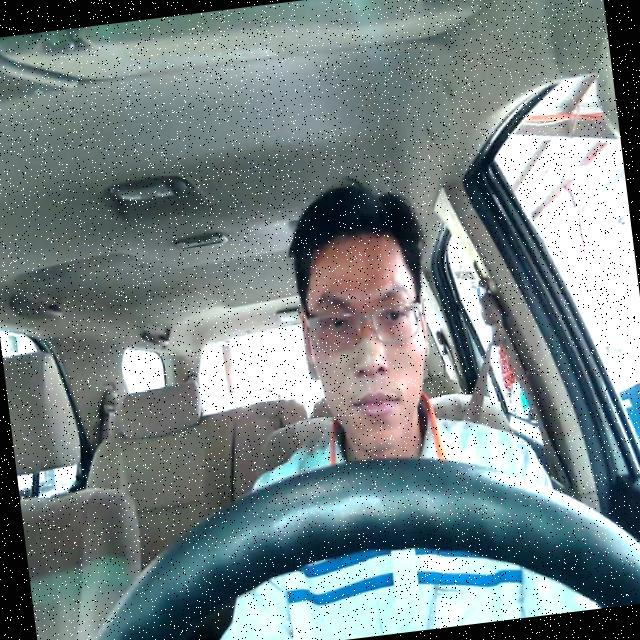focused: (290, 226, 440, 457)
